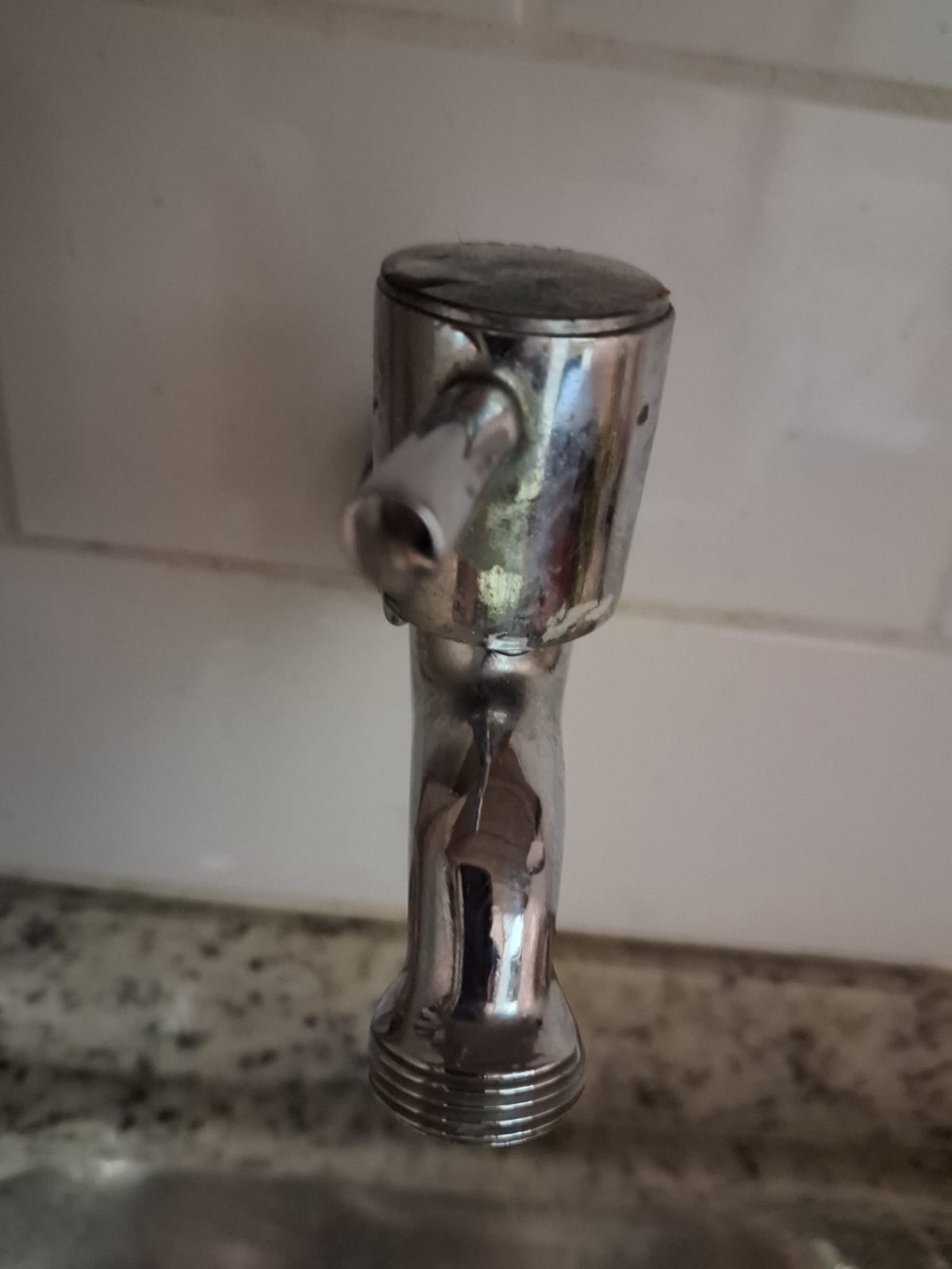torneira_fechada: (264, 183, 709, 1185)
